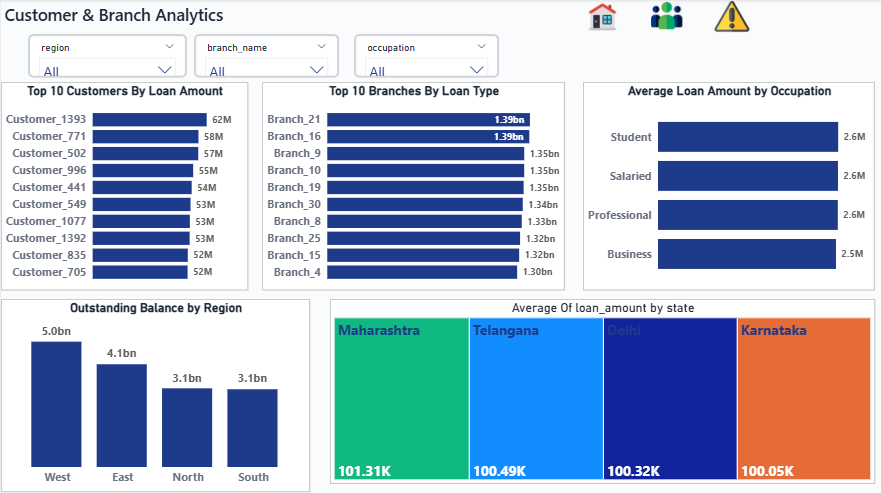

The dashboard page shown, as its layout file describes it:
{"tool":"powerbi","page":{"name":"Customer & Branch","canvas":[1280,720],"ordinal":1},"visuals":[{"type":"textbox","box":[0,0,411.8,50.4],"z":0},{"type":"barChart","title":"Top 10 Customers By Loan Amount","fields":{"Y":["Temp.Total Loan Amount"],"Category":["customers(1).customer_name"]},"box":[0,119.5,355.7,299.5],"z":1000},{"type":"barChart","title":"Top 10 Branches By Loan Type","fields":{"Y":["Temp.Total Loan Amount"],"Category":["branches.branch_name"]},"box":[375.8,119.5,436.3,299.5],"z":2000},{"type":"clusteredBarChart","title":"Average Loan Amount by Occupation","fields":{"Category":["customers(1).occupation"],"Y":["Avg(loan_details.loan_amount)"]},"box":[838.1,119.5,420.5,299.5],"z":3000},{"type":"columnChart","title":"Outstanding Balance by Region","fields":{"Category":["branches.region"],"Y":["Sum(loan_details.outstanding_balance)"]},"box":[0,432,445,277.9],"z":4000},{"type":"treemap","title":"Average Of loan_amount by state","fields":{"Group":["customers(1).state"],"Values":["Min(loan_details.loan_amount)"]},"box":[473.8,432,784.8,266.4],"z":5000},{"type":"image","box":[835.2,5.8,61.9,40.3],"z":6000},{"type":"image","box":[897.1,1.4,122.4,44.6],"z":7000},{"type":"image","box":[1019.5,0,66.2,50.4],"z":8000},{"type":"slicer","fields":{"Values":["branches.region"]},"box":[38.9,50.4,229,63.4],"z":9000},{"type":"slicer","fields":{"Values":["branches.branch_name"]},"box":[277.9,50.4,208.8,63.4],"z":10000},{"type":"slicer","fields":{"Values":["customers(1).occupation"]},"box":[508.3,50.4,208.8,63.4],"z":11000}]}

Visuals, with their boxes in screenshot pixels (x1, y1, x2, y2), scaled from the page's 1280x720 canvas onto the 881x493 screenshot:
textbox: {"left": 0, "top": 0, "right": 283, "bottom": 35}
"Top 10 Customers By Loan Amount" barChart: {"left": 0, "top": 82, "right": 245, "bottom": 287}
"Top 10 Branches By Loan Type" barChart: {"left": 259, "top": 82, "right": 559, "bottom": 287}
"Average Loan Amount by Occupation" clusteredBarChart: {"left": 577, "top": 82, "right": 866, "bottom": 287}
"Outstanding Balance by Region" columnChart: {"left": 0, "top": 296, "right": 306, "bottom": 486}
"Average Of loan_amount by state" treemap: {"left": 326, "top": 296, "right": 866, "bottom": 478}
image: {"left": 575, "top": 4, "right": 617, "bottom": 32}
image: {"left": 617, "top": 1, "right": 702, "bottom": 31}
image: {"left": 702, "top": 0, "right": 747, "bottom": 35}
slicer - branches.region: {"left": 27, "top": 35, "right": 184, "bottom": 78}
slicer - branches.branch_name: {"left": 191, "top": 35, "right": 335, "bottom": 78}
slicer - customers(1).occupation: {"left": 350, "top": 35, "right": 494, "bottom": 78}
